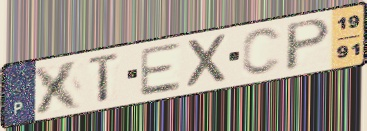C: (239, 26, 285, 78)
E: (137, 40, 183, 99)
P: (283, 16, 334, 74)
T: (87, 50, 123, 106)
X: (30, 57, 86, 117), (186, 31, 231, 91)
